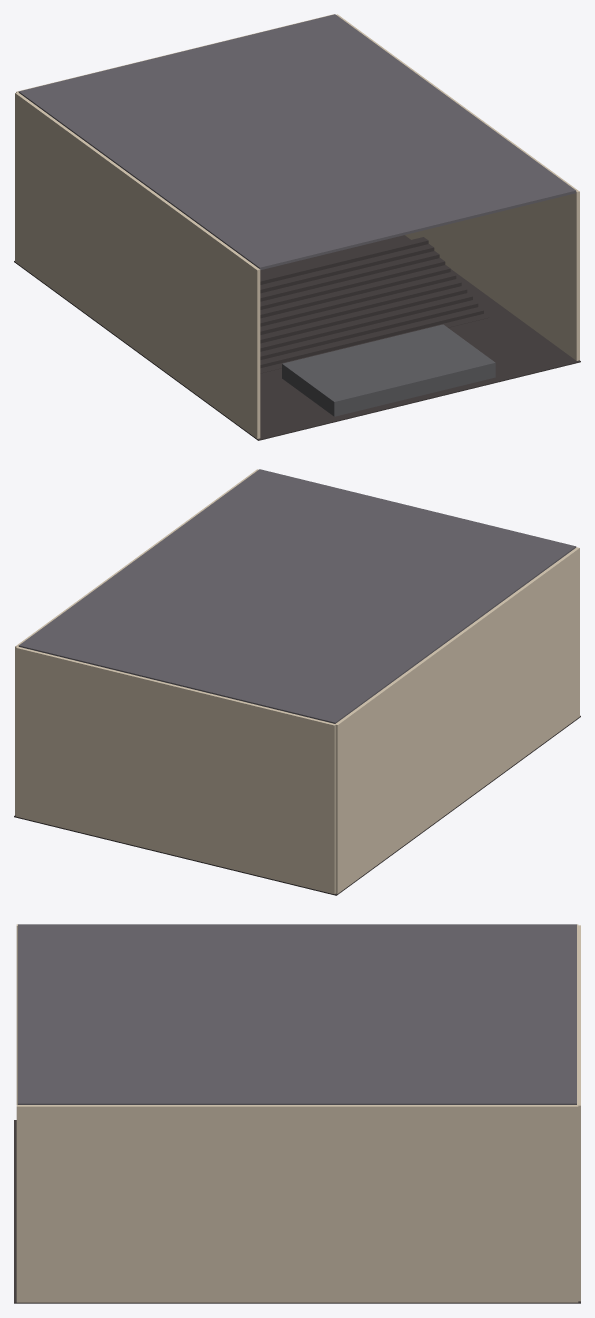
Rendered from reference-auditorium-v1-collision.glb.
The picture shows the model from 3 angles, top to bottom: view 1: azimuth 30°, elevation 25°; view 2: azimuth 150°, elevation 25°; view 3: azimuth 270°, elevation 25°; orthographic projection. The views are drawn at different scales.
Parts seen in each view (by area): view 1: Ceiling, Wall_Left, Wall_Right, Stage, Floor, Riser_R02, Riser_R01, Riser_R03, Riser_R04, Riser_R05, Riser_R06, Riser_R07 (+5 smaller); view 2: Ceiling, Wall_Back, Wall_Left, Floor, Wall_Right; view 3: Wall_Right, Ceiling, Floor, Wall_Back.
Boxes of the visible parts, bbox=[...] form: Ceiling: bbox=[18, 14, 576, 270]; Wall_Left: bbox=[15, 92, 260, 438]; Wall_Right: bbox=[336, 14, 579, 360]; Stage: bbox=[282, 324, 495, 416]; Floor: bbox=[14, 235, 580, 440]; Riser_R02: bbox=[260, 300, 478, 359]; Riser_R01: bbox=[260, 307, 483, 368]; Riser_R03: bbox=[260, 293, 472, 351]; Riser_R04: bbox=[260, 286, 467, 343]; Riser_R05: bbox=[260, 279, 461, 334]; Riser_R06: bbox=[260, 272, 456, 326]; Riser_R07: bbox=[260, 265, 450, 318]; Ceiling: bbox=[18, 469, 576, 723]; Wall_Back: bbox=[16, 646, 335, 894]; Wall_Left: bbox=[335, 547, 579, 893]; Floor: bbox=[14, 715, 580, 895]; Wall_Right: bbox=[15, 469, 258, 815]; Wall_Right: bbox=[16, 1105, 578, 1302]; Ceiling: bbox=[18, 924, 576, 1104]; Floor: bbox=[14, 1120, 580, 1303]; Wall_Back: bbox=[577, 925, 580, 1301].
Bounding box in the file's own units: 32 × 16.23 × 42.
